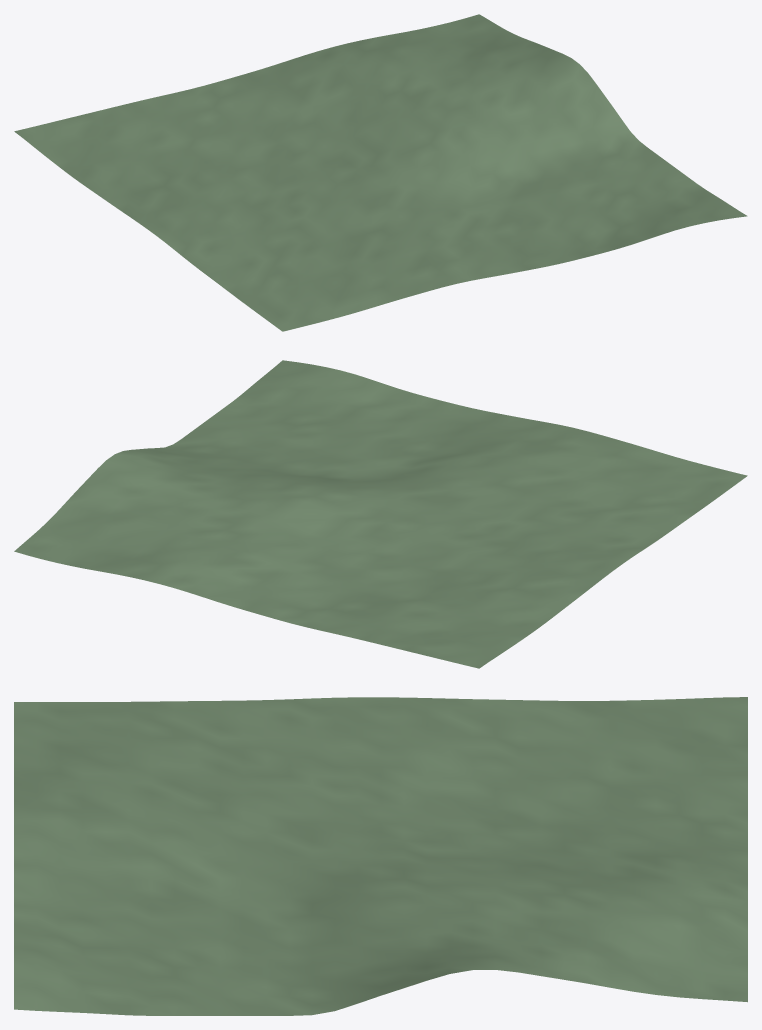
3 views of the same model, one above another, from view 1: azimuth 30°, elevation 25°; view 2: azimuth 150°, elevation 25°; view 3: azimuth 270°, elevation 25° (orthographic). The views are drawn at different scales.
Visible parts, largest first — view 1: Terrain-col; view 2: Terrain-col; view 3: Terrain-col.
Boxes of the visible parts, left/top/right/bottom form: Terrain-col: left=14, top=14, right=747, bottom=331; Terrain-col: left=14, top=360, right=747, bottom=668; Terrain-col: left=14, top=697, right=747, bottom=1015.
Bounding box in the file's own units: 256 × 17.74 × 256.
